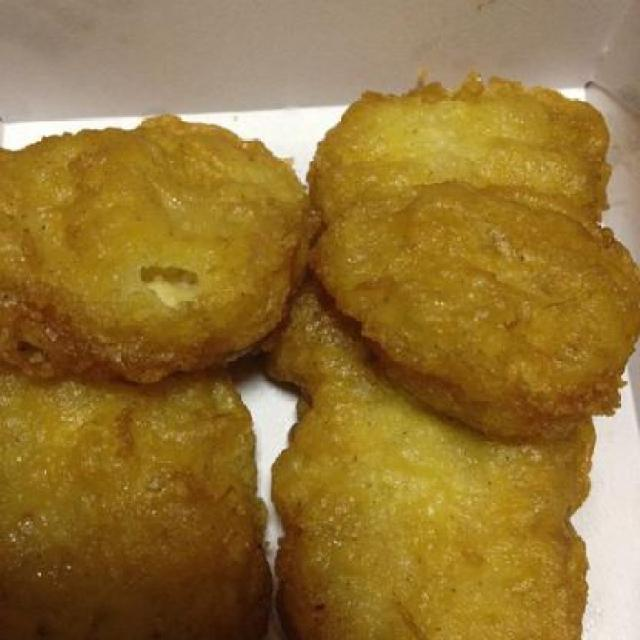Chicken nugget: (3, 70, 640, 639)
